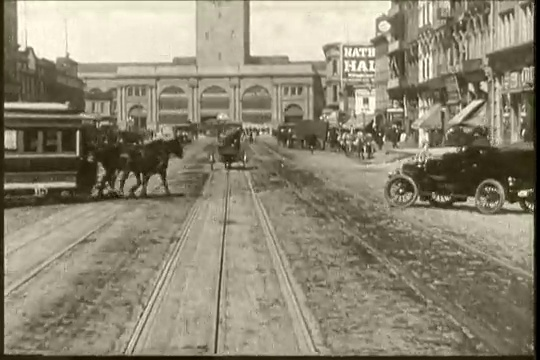car: (382, 117, 538, 230)
horse: (97, 129, 182, 196)
